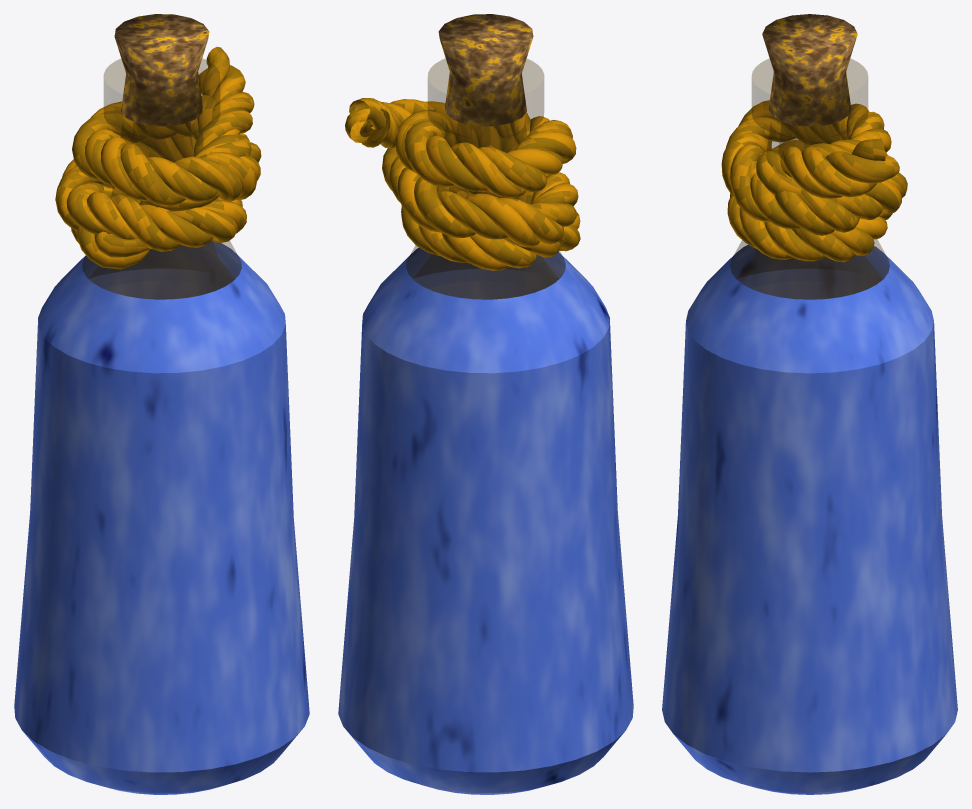
File: bottle(ready).fbx
3 views of the same model, side by side, from view 1: azimuth 30°, elevation 25°; view 2: azimuth 150°, elevation 25°; view 3: azimuth 270°, elevation 25° (orthographic).
Visible parts, largest first — view 1: bottle, rope, cork; view 2: bottle, rope, cork; view 3: bottle, rope, cork.
Boxes of the visible parts, <box> form: bottle: <box>14,58,309,794</box>; rope: <box>55,46,261,269</box>; cork: <box>114,14,209,126</box>; bottle: <box>338,58,633,794</box>; rope: <box>345,98,580,270</box>; cork: <box>438,14,533,126</box>; bottle: <box>662,58,957,794</box>; rope: <box>721,100,907,262</box>; cork: <box>762,14,857,126</box>.
Bounding box in the file's own units: 76.22 × 205 × 76.22.
